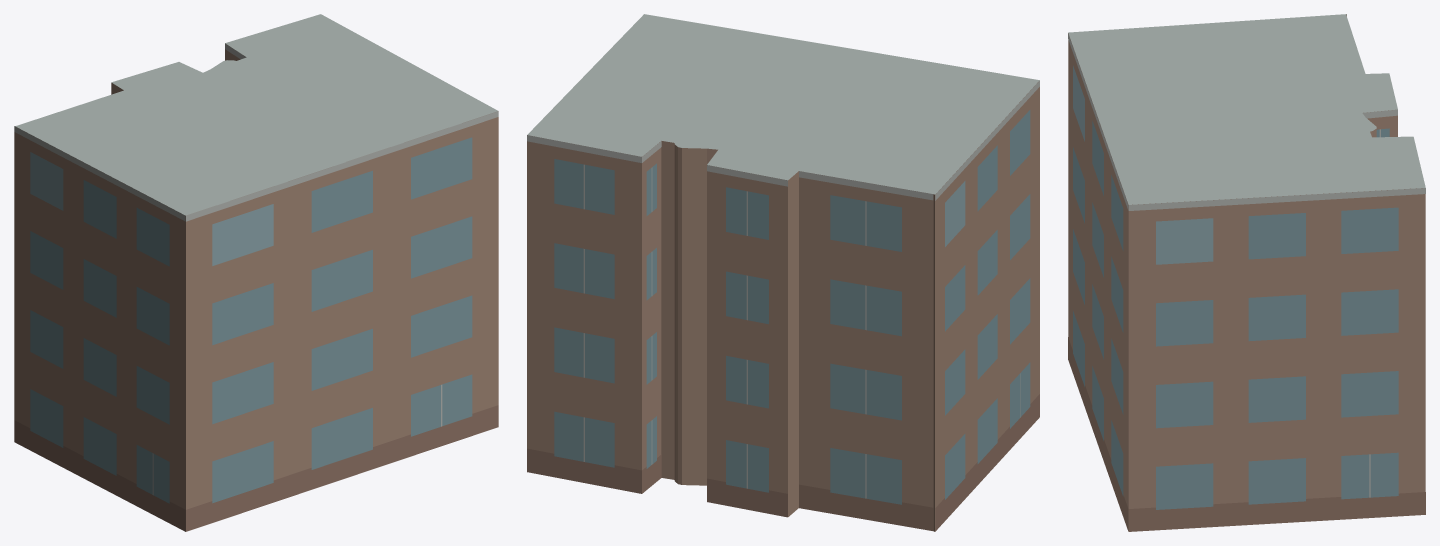
File: survey-upis-32780500.glb
The picture shows the model from 3 angles, left to right: view 1: azimuth 30°, elevation 25°; view 2: azimuth 150°, elevation 25°; view 3: azimuth 270°, elevation 25°; orthographic projection. The views are drawn at different scales.
Visible parts, largest first — view 1: survey-upis-32780500.tmp; view 2: survey-upis-32780500.tmp; view 3: survey-upis-32780500.tmp.
Boxes of the visible parts, box(x1,y1,x2,y2) form: survey-upis-32780500.tmp: box(14, 14, 498, 531); survey-upis-32780500.tmp: box(527, 14, 1039, 531); survey-upis-32780500.tmp: box(1068, 14, 1425, 531).
Size of the model in its own units: 16.27 by 12.98 by 12.88.
